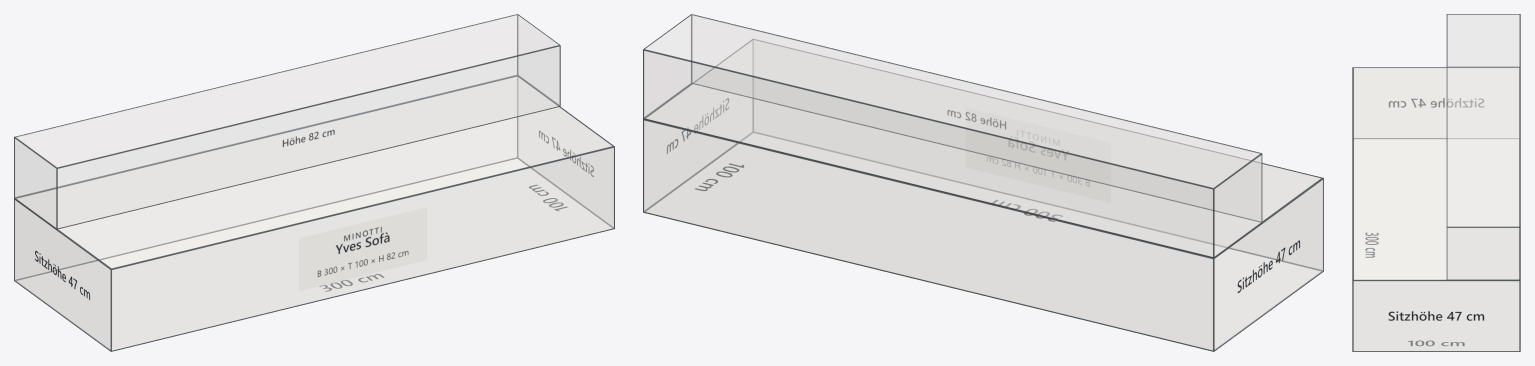
Rendered from tables-yves-sofa--lounge-sofa-300.glb.
The picture shows the model from 3 angles, left to right: view 1: azimuth 30°, elevation 25°; view 2: azimuth 150°, elevation 25°; view 3: azimuth 270°, elevation 25°; orthographic projection. The views are drawn at different scales.
Parts seen in each view (by area): view 1: sitz_oben, sitz_vorne, Grundflaeche, sitz_hinten, ruecken_vorne, ruecken_hinten, ruecken_oben, sitz_links, sitz_rechts, ruecken_links, ruecken_rechts; view 2: Grundflaeche, sitz_oben, sitz_hinten, ruecken_hinten, ruecken_vorne, sitz_vorne, ruecken_oben, sitz_links, sitz_rechts, ruecken_links, ruecken_rechts; view 3: sitz_oben, Grundflaeche, ruecken_oben, sitz_rechts, sitz_links, ruecken_rechts, ruecken_links.
Boxes of the visible parts, x1,y1,x2,y2 form: sitz_oben: [15, 75, 614, 269]; sitz_vorne: [111, 146, 614, 351]; Grundflaeche: [15, 158, 613, 350]; sitz_hinten: [14, 77, 517, 280]; ruecken_vorne: [56, 45, 560, 229]; ruecken_hinten: [14, 14, 517, 197]; ruecken_oben: [14, 14, 559, 167]; sitz_links: [14, 198, 110, 351]; sitz_rechts: [518, 77, 613, 227]; ruecken_links: [14, 137, 56, 229]; ruecken_rechts: [518, 15, 559, 105]; Grundflaeche: [644, 132, 1322, 350]; sitz_oben: [644, 39, 1323, 256]; sitz_hinten: [643, 119, 1213, 351]; ruecken_hinten: [643, 49, 1213, 258]; ruecken_vorne: [691, 15, 1261, 222]; sitz_vorne: [753, 40, 1323, 270]; ruecken_oben: [643, 14, 1261, 188]; sitz_links: [1214, 178, 1323, 351]; sitz_rechts: [644, 41, 752, 210]; ruecken_links: [1214, 153, 1262, 257]; ruecken_rechts: [644, 15, 691, 117]; sitz_oben: [1352, 67, 1519, 280]; Grundflaeche: [1353, 138, 1519, 350]; ruecken_oben: [1446, 14, 1520, 226]; sitz_rechts: [1352, 280, 1520, 351]; sitz_links: [1354, 68, 1518, 138]; ruecken_rechts: [1446, 227, 1520, 280]; ruecken_links: [1447, 14, 1519, 67].
Bounding box in the file's own units: 3 × 0.82 × 1.
11 materials, 11 textured.
